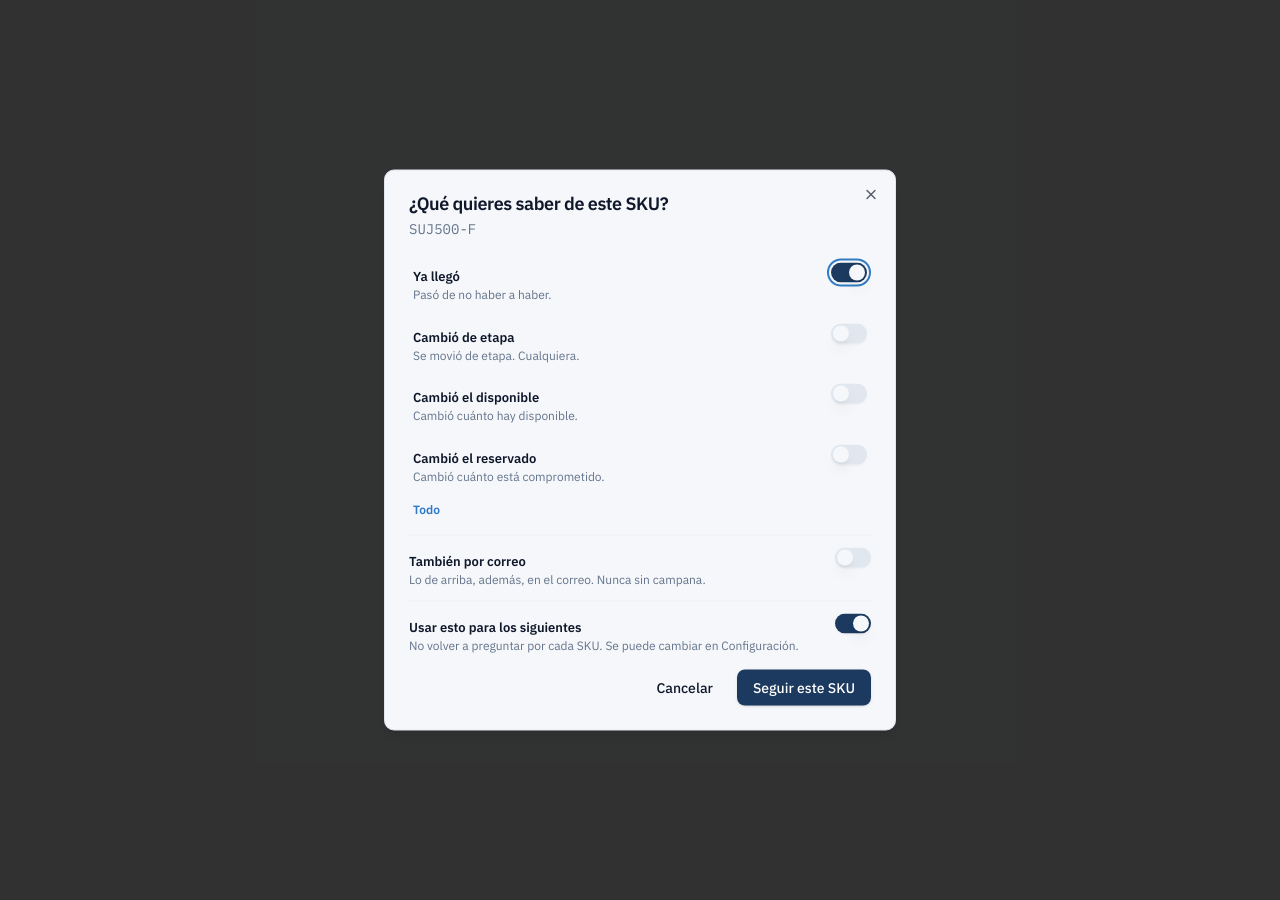
[INV-B9] VentanaAvisos › sin ninguna opción no se puede confirmar, y lo dice
Click the switch named "Ya llegó" in the row of "Ya llegó".
click(849, 272)  # box left=831, top=262, right=867, bottom=282
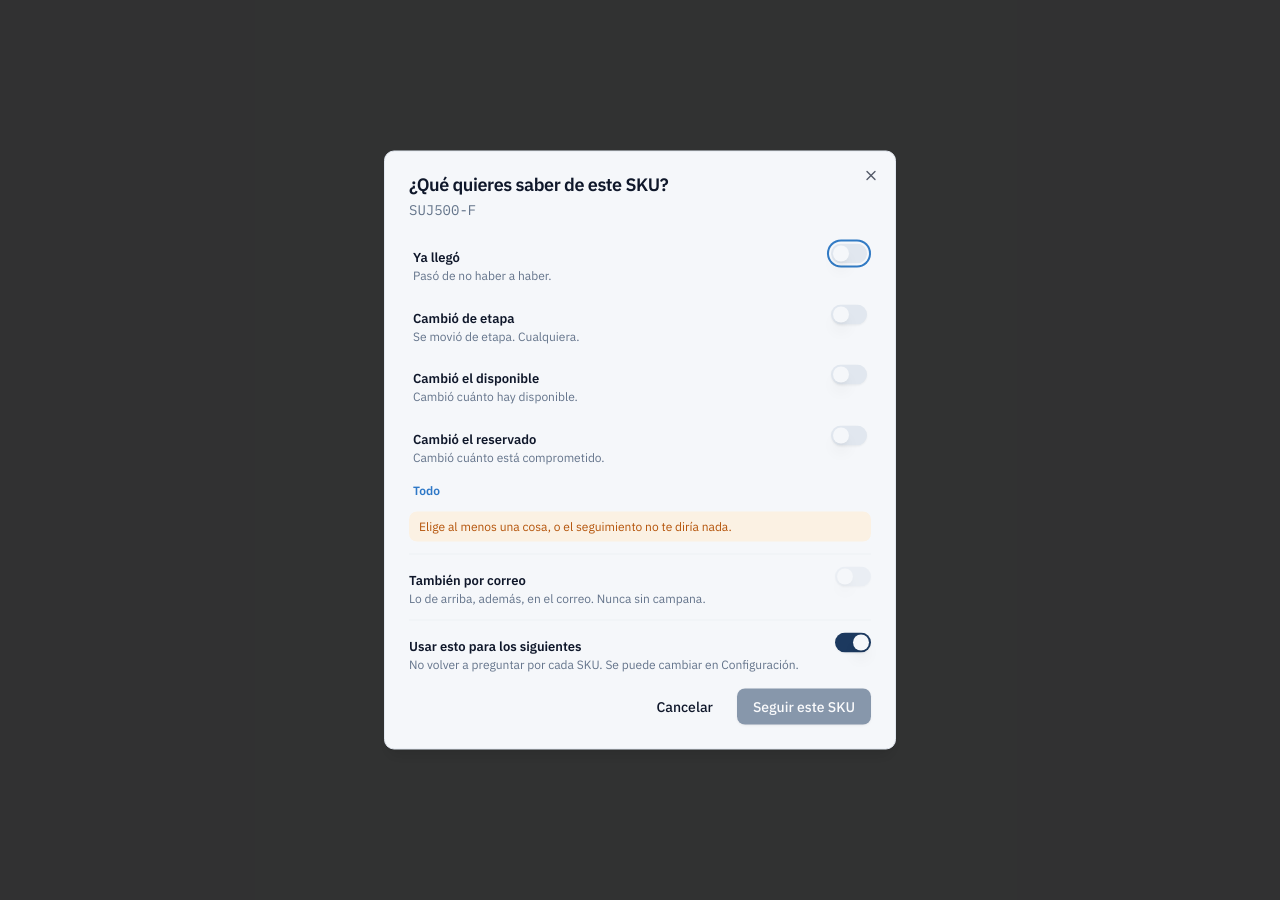
Expected: the button "Seguir este SKU" is disabled, left=737, top=688, right=871, bottom=724
Expected: the text "Elige al menos una cosa, o el seguimiento no te diría nada." is shown, left=409, top=512, right=871, bottom=542
